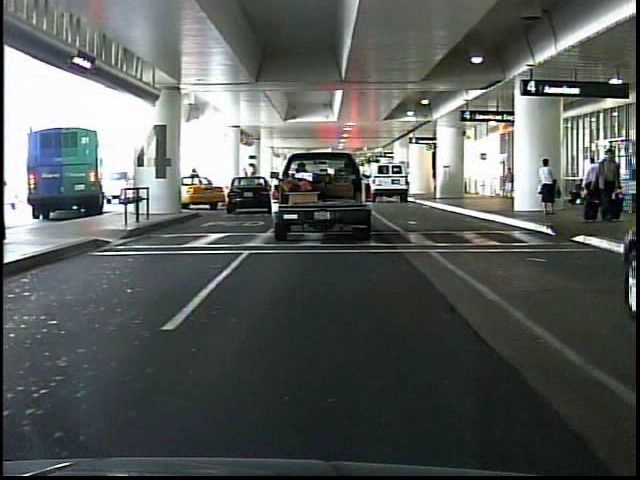person: (592, 145, 622, 226), (535, 156, 560, 217), (583, 154, 607, 214), (498, 164, 515, 206)
